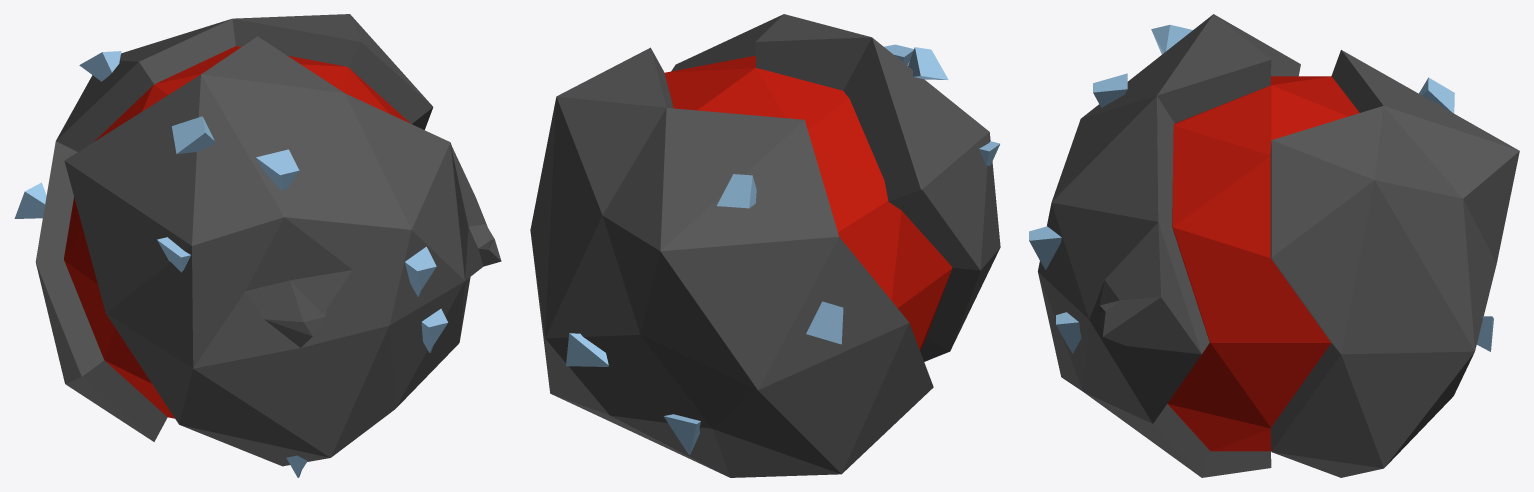
The model's file is MagmaPlanet.fbx.
The picture shows the model from 3 angles, left to right: view 1: azimuth 30°, elevation 25°; view 2: azimuth 150°, elevation 25°; view 3: azimuth 270°, elevation 25°; orthographic projection. The views are drawn at different scales.
Visible parts, largest first — view 1: Icosphere.001, Icosphere, Cube, Cube.001, Cube.005, Cube.003, Cube.004, Cube.007, Cube.002; view 2: Icosphere.001, Icosphere, Cube.003, Cube.008, Cube.004, Cube, Cube.009; view 3: Icosphere.001, Icosphere, Cube.005, Cube.001, Cube.004, Cube, Cube.007.
Boxes of the visible parts, x1=… form: Icosphere.001: x1=35, y1=14, x2=501, y2=466; Icosphere: x1=64, y1=46, x2=410, y2=418; Cube: x1=172, y1=116, x2=214, y2=153; Cube.001: x1=256, y1=149, x2=299, y2=189; Cube.005: x1=405, y1=246, x2=436, y2=296; Cube.003: x1=14, y1=182, x2=46, y2=218; Cube.004: x1=79, y1=51, x2=121, y2=81; Cube.007: x1=421, y1=308, x2=448, y2=352; Cube.002: x1=157, y1=237, x2=190, y2=272; Icosphere.001: x1=530, y1=14, x2=1000, y2=477; Icosphere: x1=664, y1=55, x2=952, y2=350; Cube.003: x1=806, y1=301, x2=843, y2=344; Cube.008: x1=566, y1=333, x2=608, y2=366; Cube.004: x1=717, y1=174, x2=756, y2=208; Cube: x1=908, y1=47, x2=948, y2=79; Cube.009: x1=663, y1=414, x2=700, y2=454; Icosphere.001: x1=1038, y1=14, x2=1519, y2=477; Icosphere: x1=1167, y1=76, x2=1359, y2=451; Cube.005: x1=1029, y1=226, x2=1061, y2=269; Cube.001: x1=1093, y1=73, x2=1127, y2=107; Cube.004: x1=1419, y1=77, x2=1454, y2=113; Cube: x1=1151, y1=24, x2=1192, y2=54; Cube.007: x1=1056, y1=312, x2=1081, y2=353.
Size of the model in its own units: 380 by 404 by 436.
